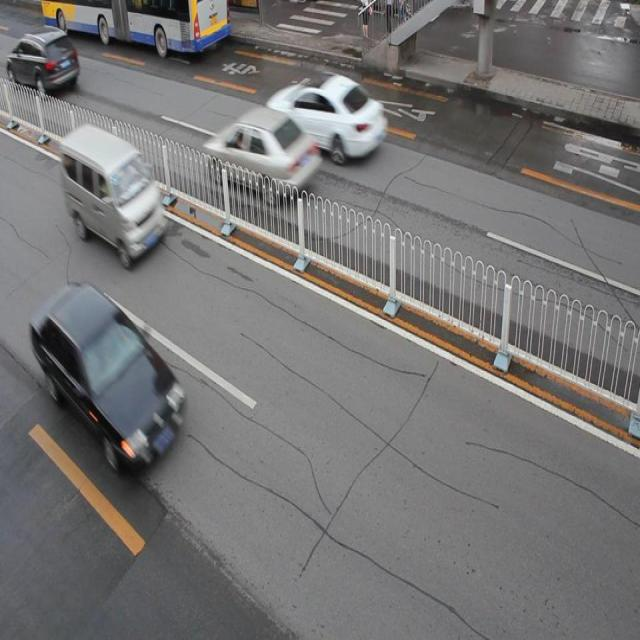car: (30, 280, 178, 467), (205, 106, 317, 207), (267, 72, 385, 165), (1, 26, 78, 97)
truck: (58, 120, 166, 262)
van: (43, 1, 229, 56)
